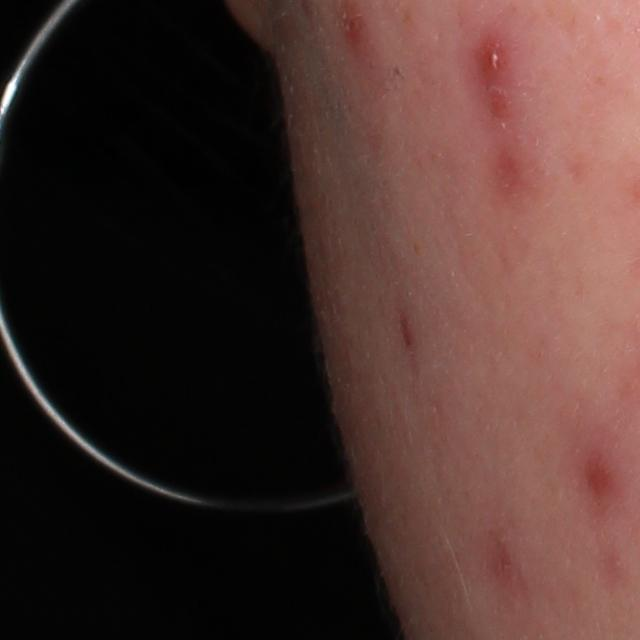papule: (475, 34, 510, 87), (343, 4, 371, 50), (582, 458, 612, 499)
